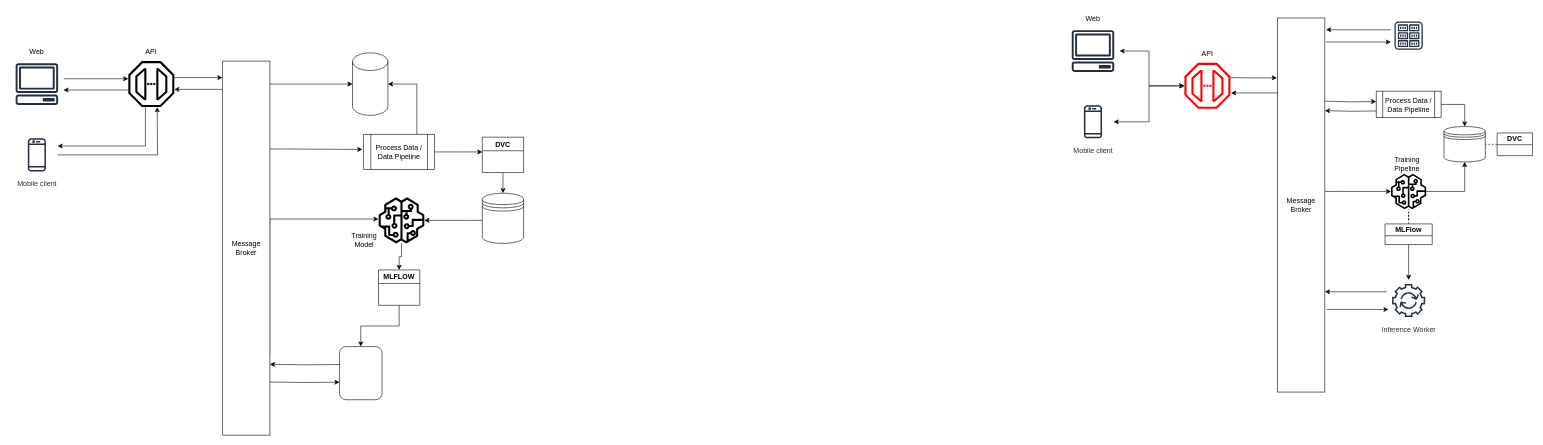
This 1543x445 diagram has some shape labels left out. The shapes that lost their labels are listed below. From the top down, each one's centre as x and y in pixels, then its label:
At (x=1408, y=35): "Raw Data warehouse".
At (x=370, y=83): "Raw Data".
At (x=1464, y=144): "Transformed data".
At (x=503, y=218): "Refined Data".
At (x=360, y=373): "Model Worker".
